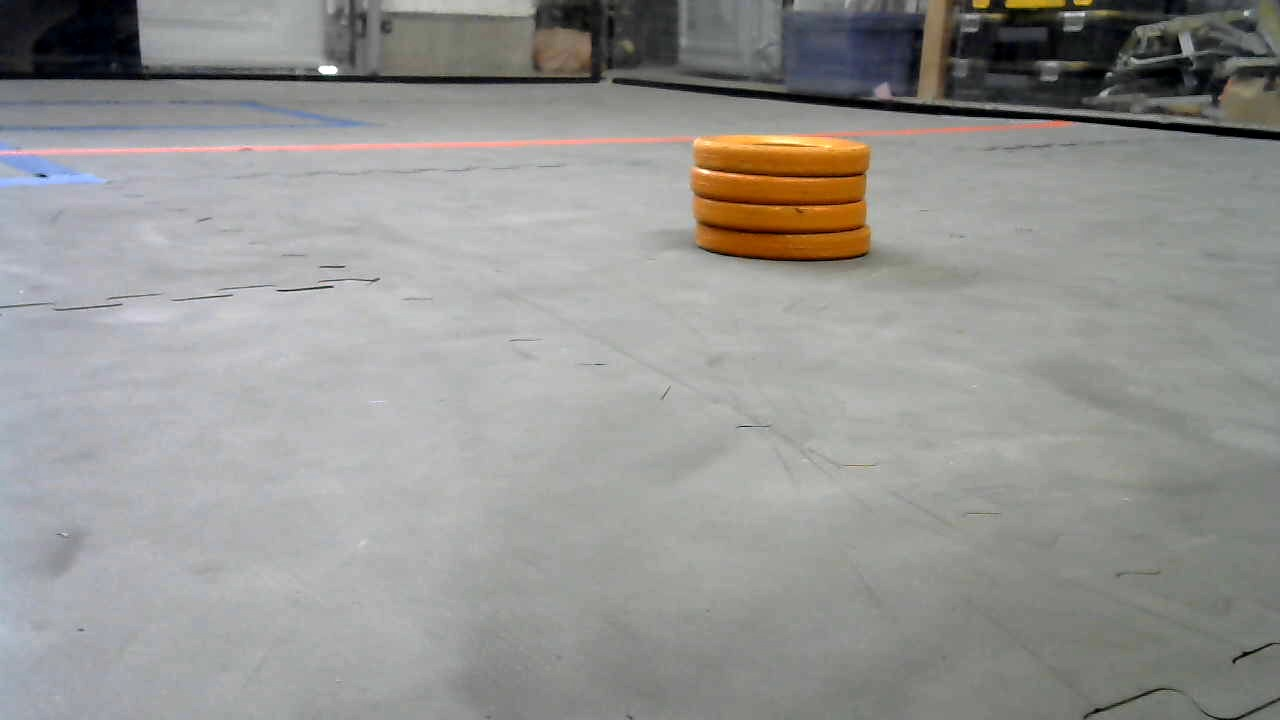FourStack: (686, 128, 873, 263)
